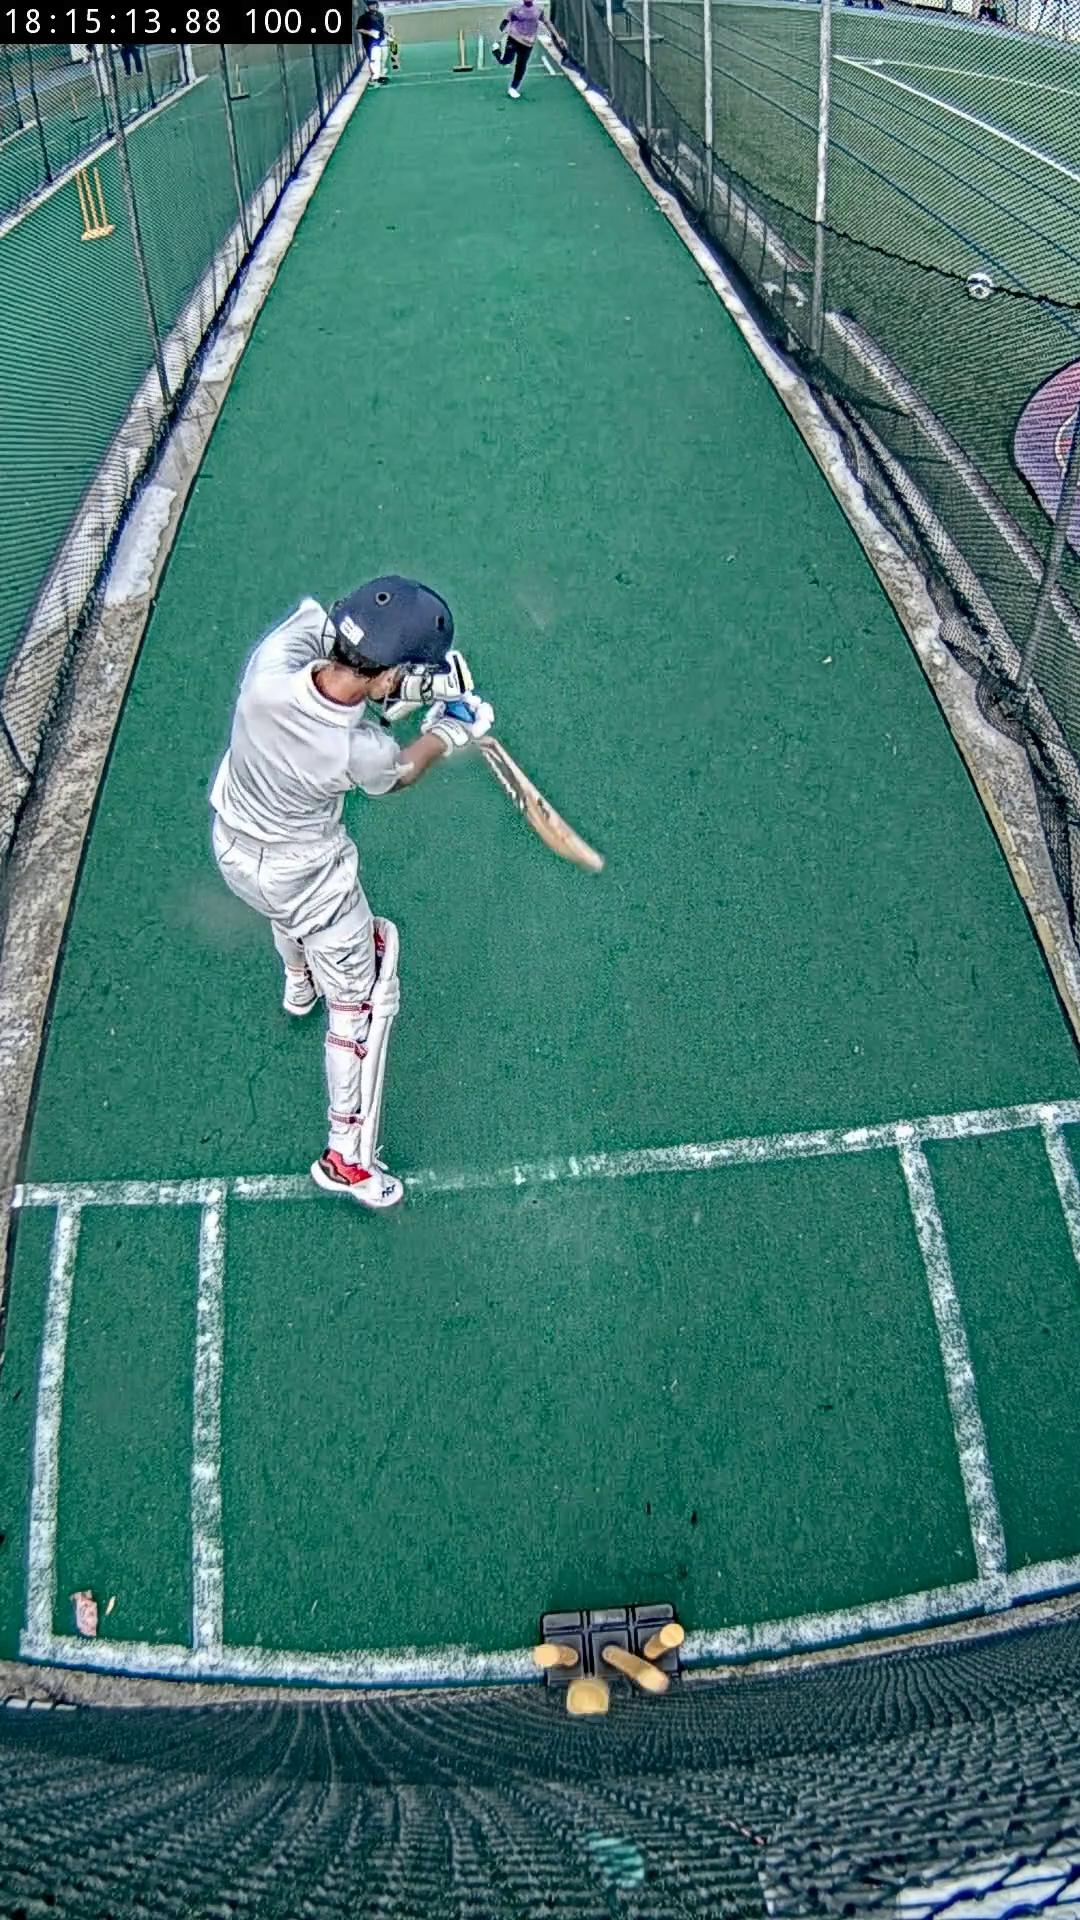ball: (566, 1676, 612, 1717)
bat: (480, 735, 604, 870)
gloves: (378, 649, 495, 750)
helmet: (330, 574, 454, 667)
pads: (360, 919, 401, 1168)
stumps: (533, 1605, 686, 1717)
